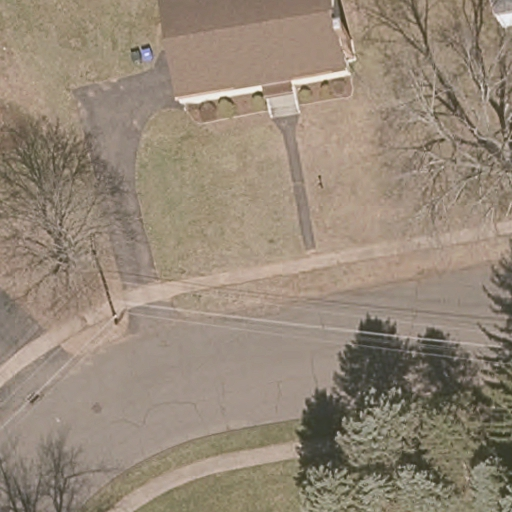DT: (114, 302, 133, 325)
